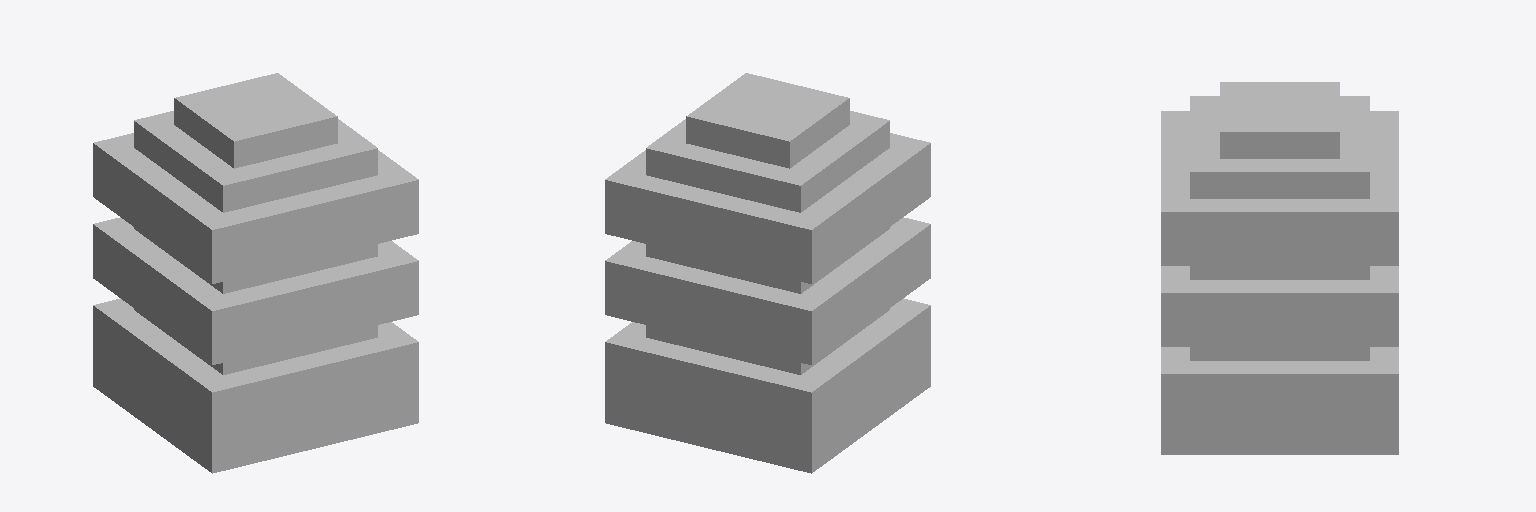
Rendered from connectorMV.obj.
The picture shows the model from 3 angles: view 1: azimuth 30°, elevation 25°; view 2: azimuth 150°, elevation 25°; view 3: azimuth 270°, elevation 25°; orthographic projection.
Parts seen in each view (by area): view 1: cube; view 2: cube; view 3: cube.
Part boxes in pixels (x1,y1,x2,y2): cube: (93, 73, 418, 473); cube: (605, 73, 930, 473); cube: (1161, 82, 1398, 454).
Size of the model in its own units: 0.25 by 0.3438 by 0.25.